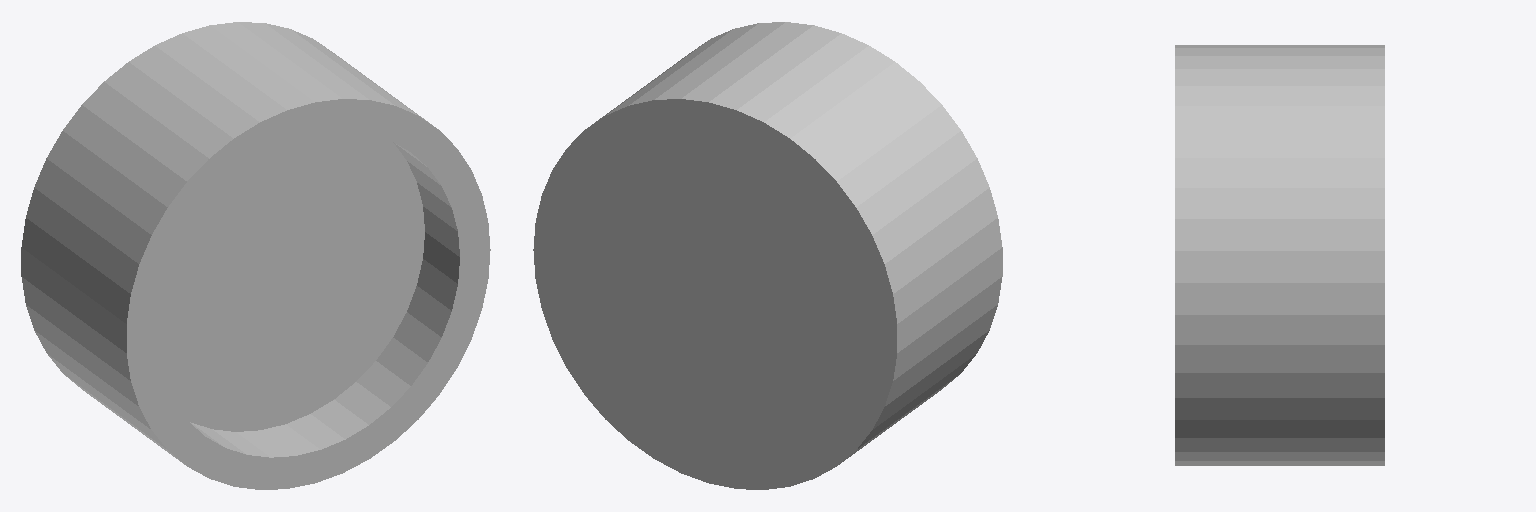
Rendered from BCP_BUTTON.obj.
The picture shows the model from 3 angles: view 1: azimuth 30°, elevation 25°; view 2: azimuth 150°, elevation 25°; view 3: azimuth 270°, elevation 25°; orthographic projection.
Parts seen in each view (by area): view 1: Body3; view 2: Body3; view 3: Body3.
Part boxes in pixels (x1,y1,x2,y2): Body3: (21, 22, 490, 489); Body3: (533, 22, 1002, 489); Body3: (1175, 45, 1384, 465).
Bounding box in the file's own units: 0.2996 × 0.2998 × 0.15.